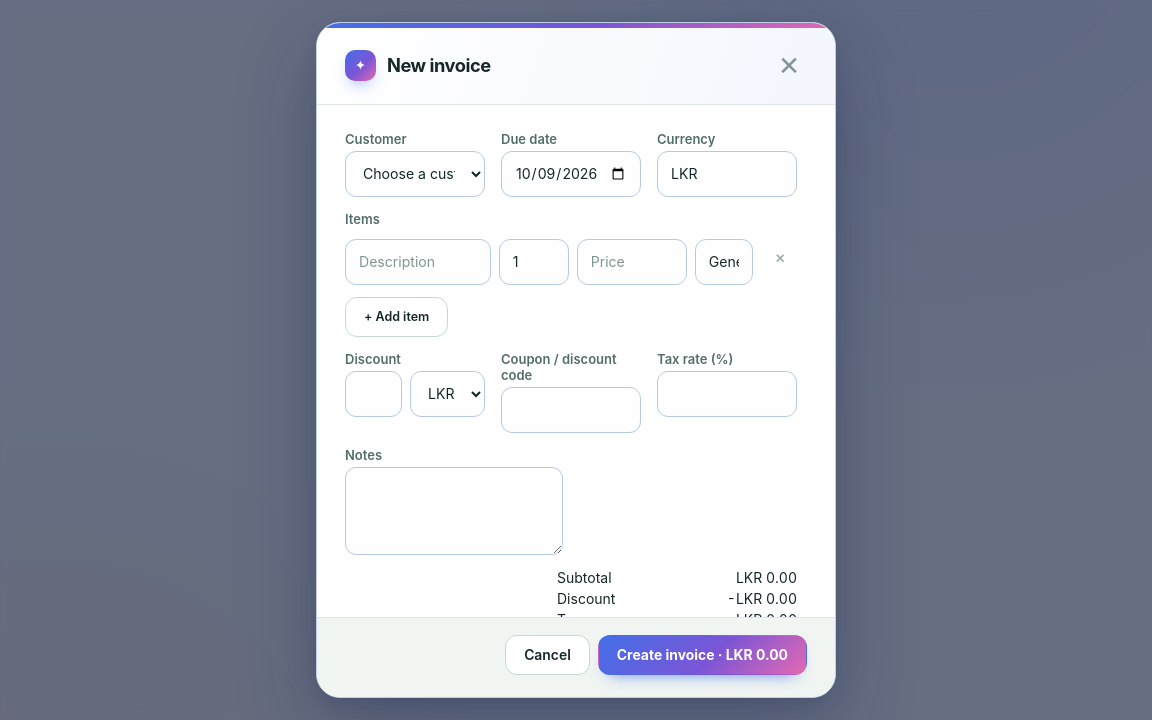
<InvoiceFormModal /> › shows field errors instead of submitting an incomplete invoice
Click the button "Create invoice · LKR 0.00" at coordinates (702, 655), box top-left (598, 635), bottom-right (807, 675)
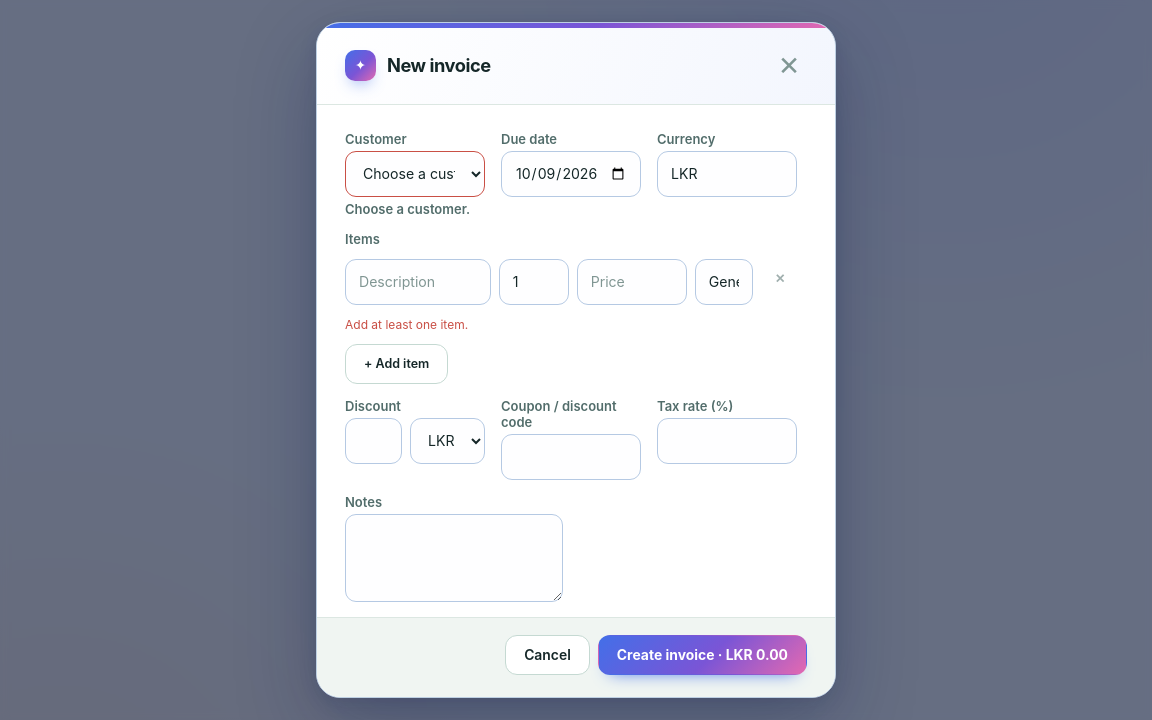
Now the text "Choose a customer." is shown, box top-left (345, 201), bottom-right (485, 217)
Now the text "Add at least one item." is shown, box top-left (345, 317), bottom-right (468, 332)
